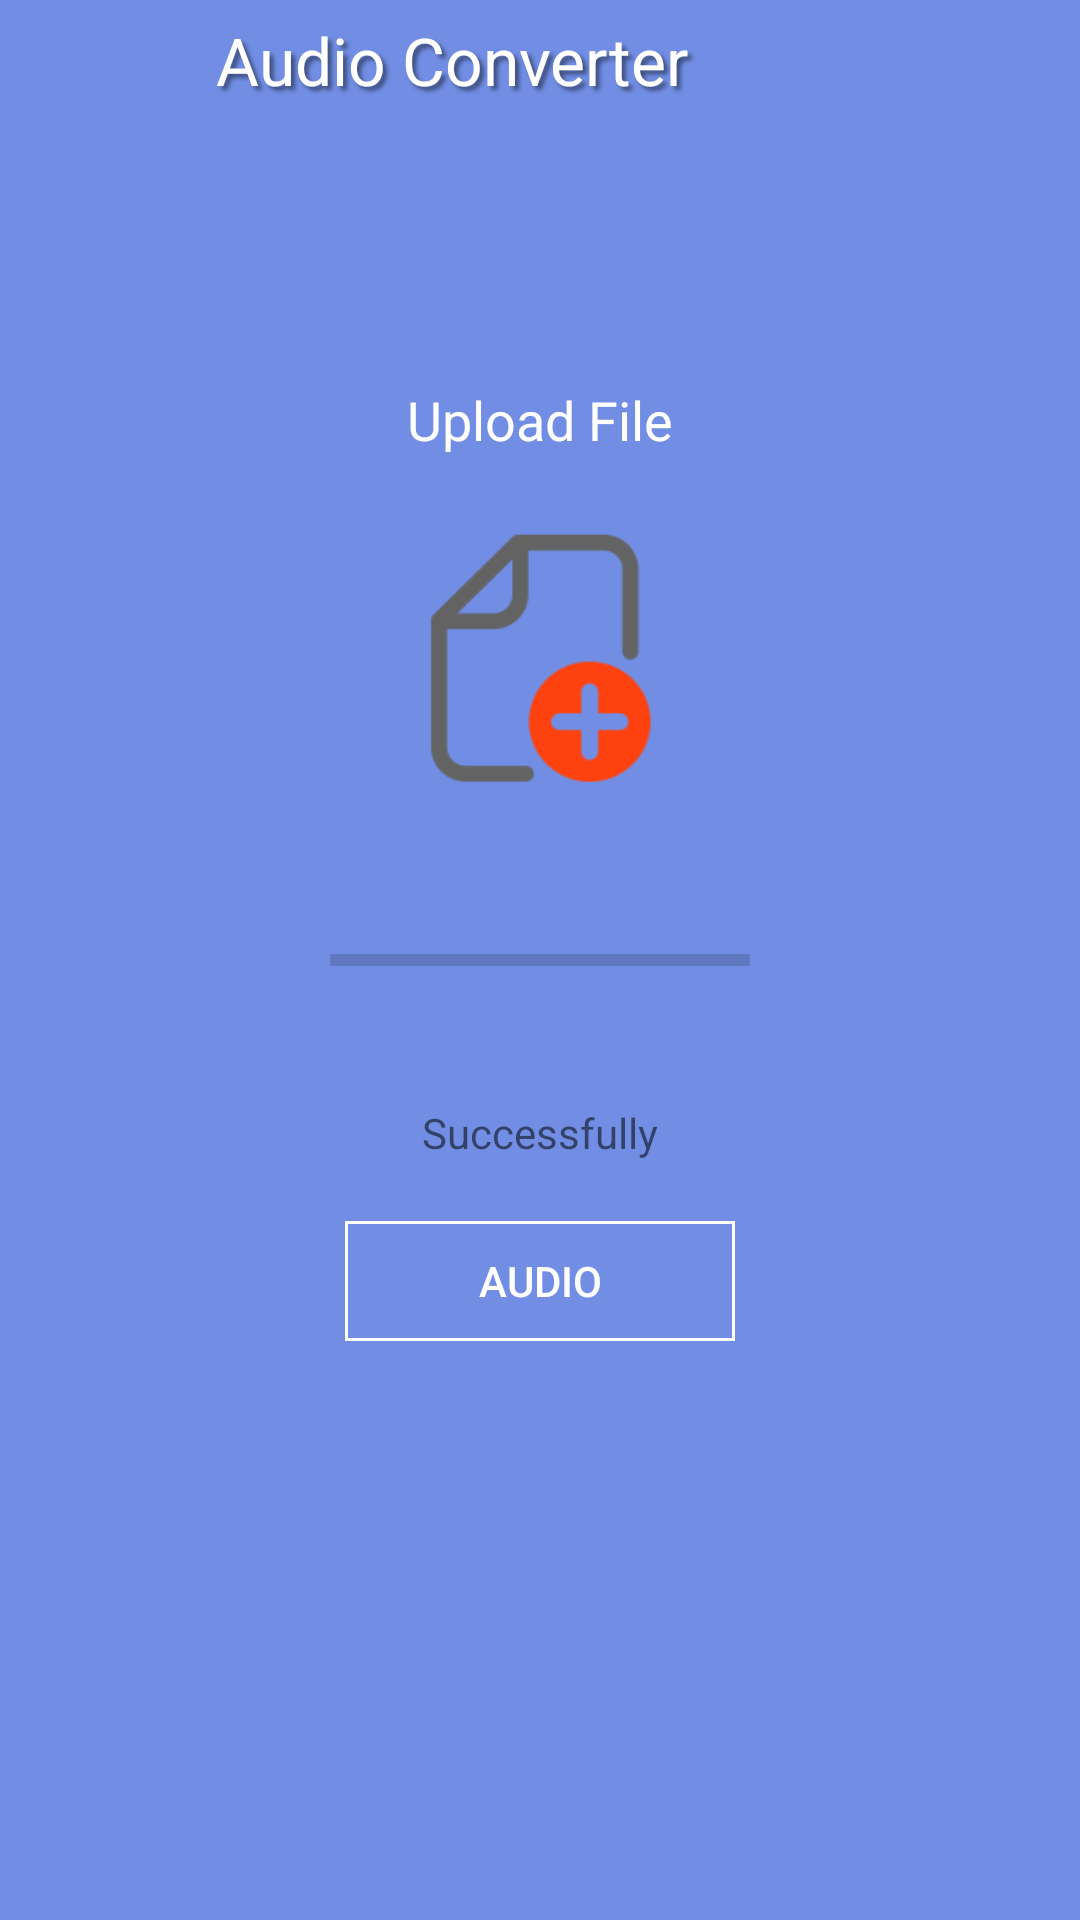

Icons on this 1080x1920 Android screen, each with the point to tap as (x=x, y=y):
addpicture: (x=541, y=658)
